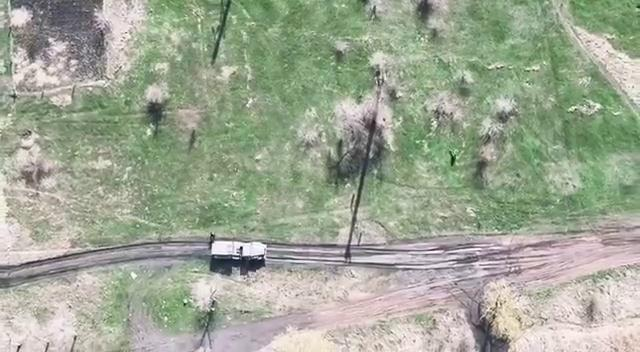person: (448, 150, 458, 163), (12, 89, 18, 98), (210, 232, 216, 238)
vehicle: (210, 240, 268, 261)
